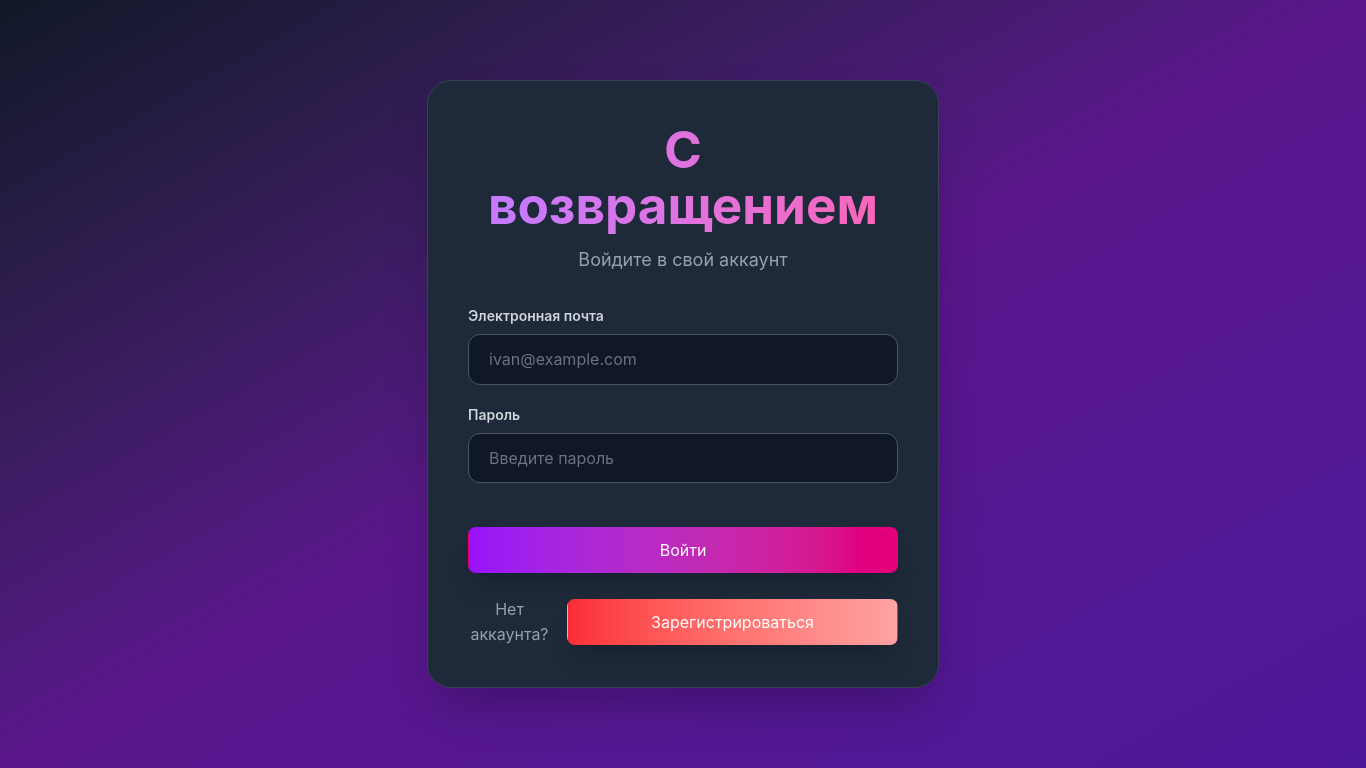
Login Page Coverage (60%+) › должен отображать ошибку, если сервер вернул ошибку
Type "test@mail.com" into the field with placeholder "ivan@example.com". click: coordinates (683, 359)
box: 468,334 -> 898,384
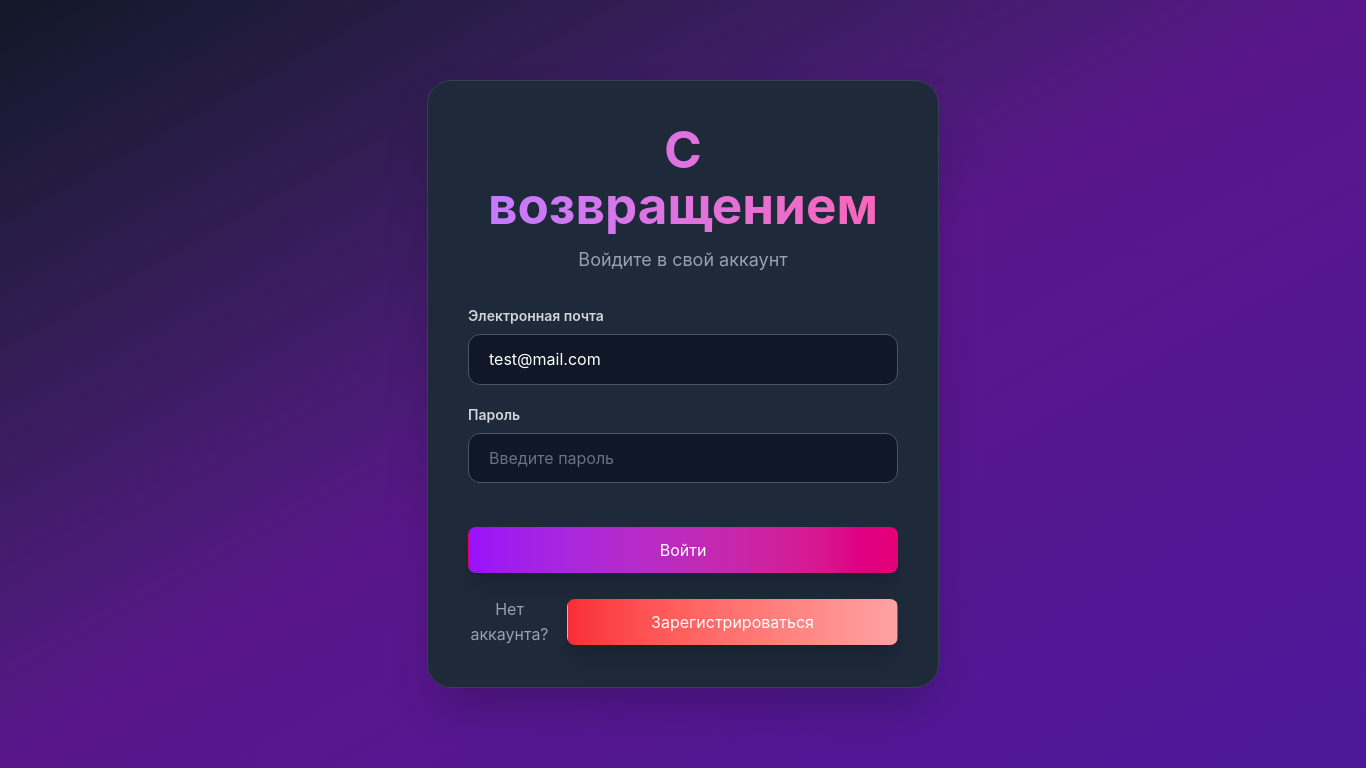
Type "password123" into the password field with placeholder "Введите пароль". click: coordinates (683, 458)
box: 468,432 -> 898,483
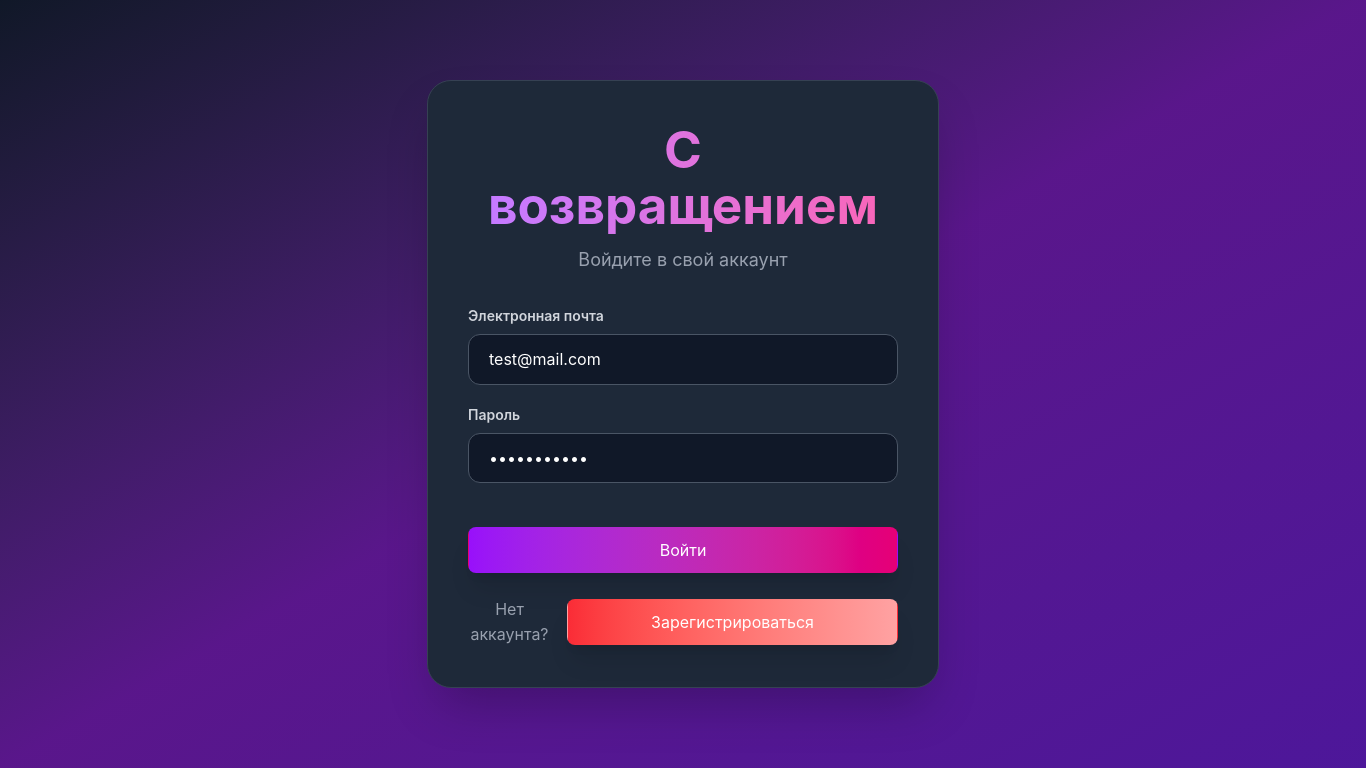
Click the button "Войти". click: coordinates (683, 550)
box: 468,527 -> 898,573
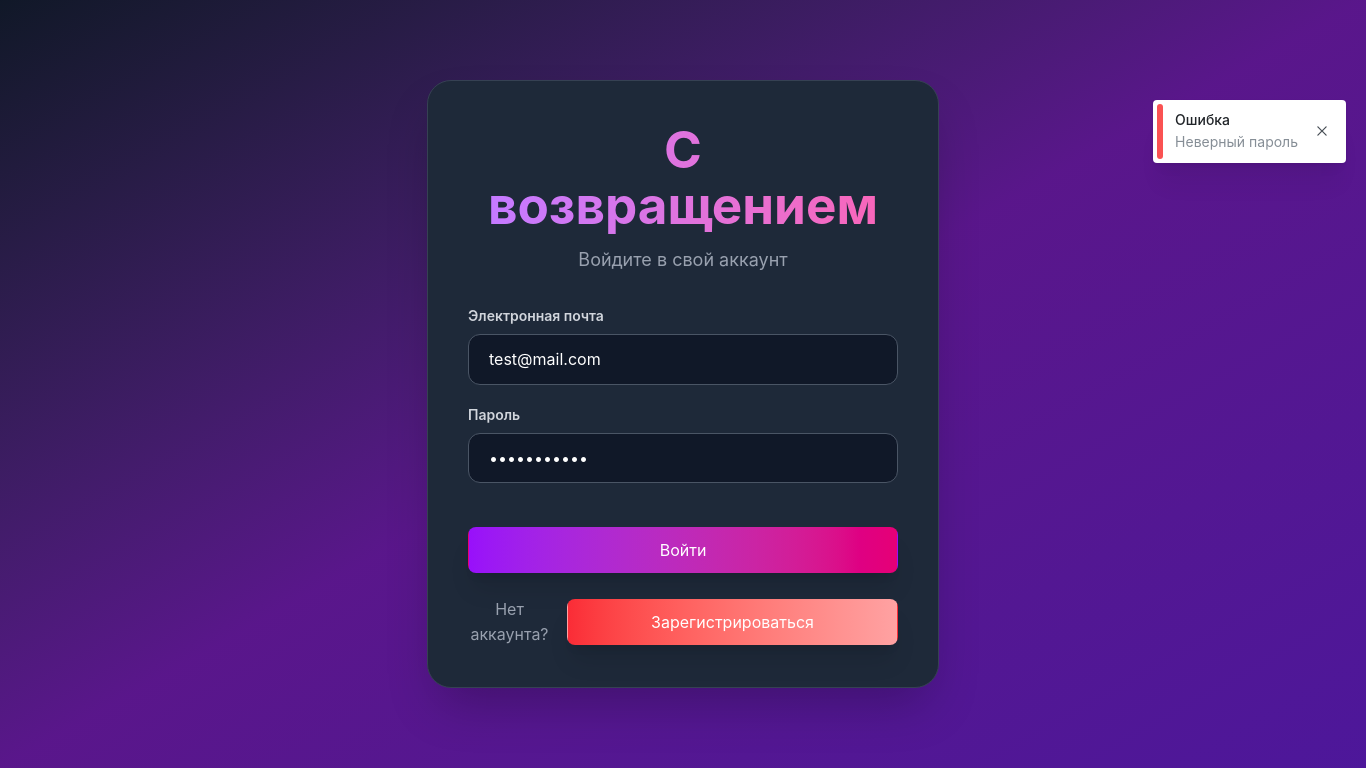
Check: the text "Неверный пароль" is shown, box 1175,132 -> 1298,153
